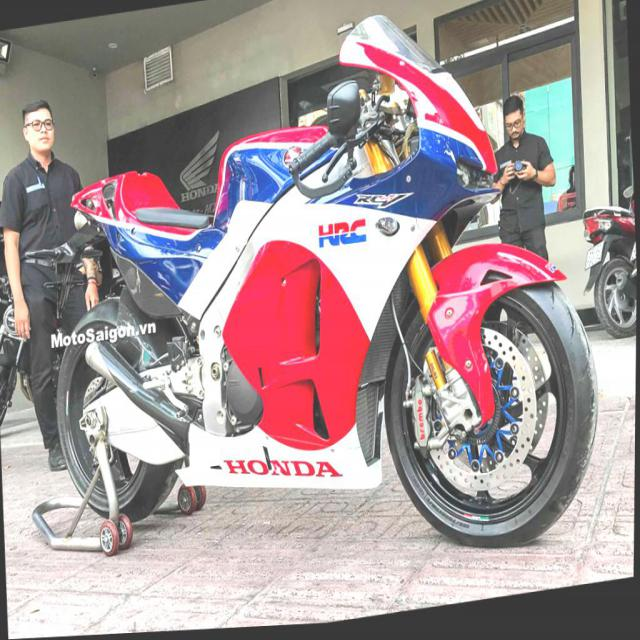HRC RCV 213: (10, 0, 611, 615)
